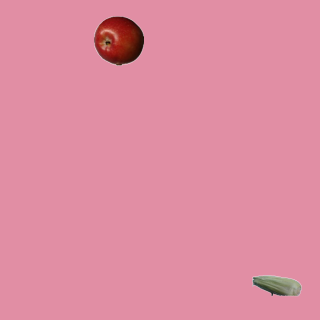Apple Braeburn: (93, 15, 143, 65)
Corn Husk: (251, 260, 301, 310)
